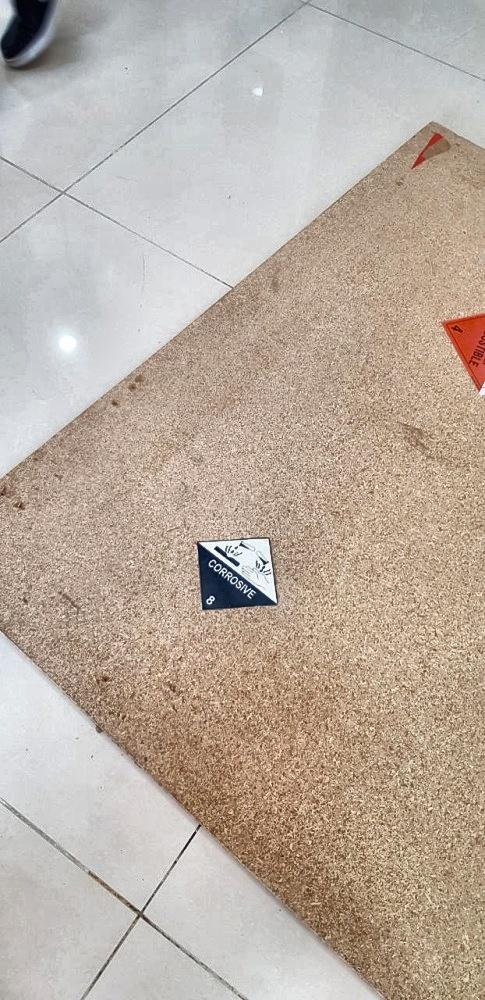corrosive: (193, 538, 280, 617)
